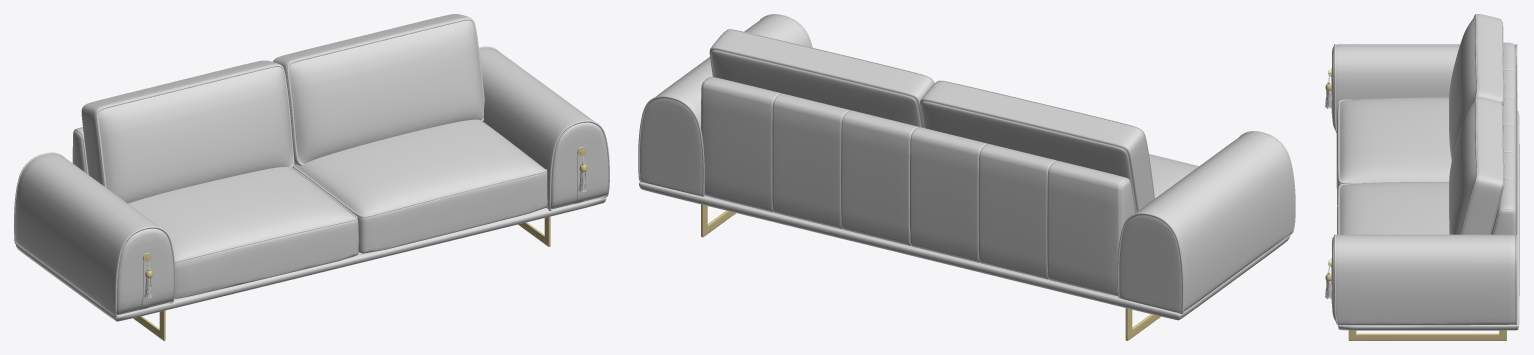
Rendered from SLN_Kimberly.glb.
The picture shows the model from 3 angles, left to right: view 1: azimuth 30°, elevation 25°; view 2: azimuth 150°, elevation 25°; view 3: azimuth 270°, elevation 25°; orthographic projection. The views are drawn at different scales.
Parts seen in each view (by area): view 1: Kimberly; view 2: Kimberly; view 3: Kimberly.
Part boxes in pixels (bbox=[...]): Kimberly: bbox=[14, 14, 609, 340]; Kimberly: bbox=[638, 14, 1295, 340]; Kimberly: bbox=[1325, 14, 1519, 340].
Bounding box in the file's own units: 2.57 × 0.8927 × 0.9776.
